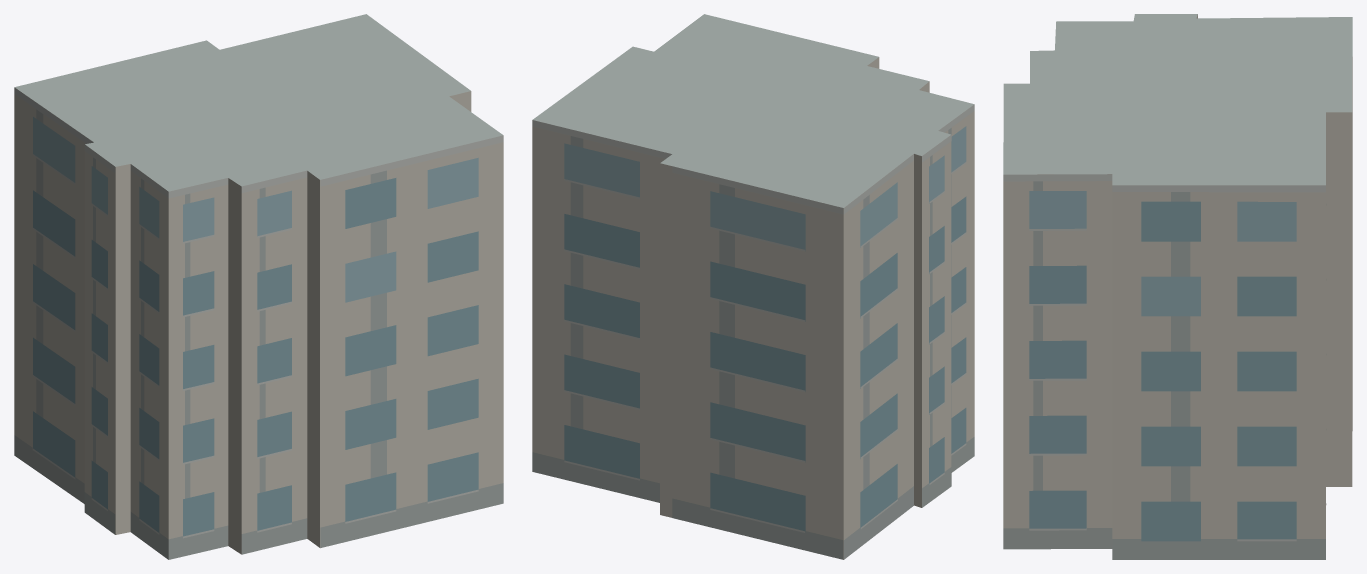
File: survey-upis-32564695.glb
The picture shows the model from 3 angles, left to right: view 1: azimuth 30°, elevation 25°; view 2: azimuth 150°, elevation 25°; view 3: azimuth 270°, elevation 25°; orthographic projection. The views are drawn at different scales.
Parts seen in each view (by area): view 1: survey-upis-32564695.tmp; view 2: survey-upis-32564695.tmp; view 3: survey-upis-32564695.tmp.
Boxes of the visible parts, x1,y1,x2,y2 form: survey-upis-32564695.tmp: [14, 14, 503, 559]; survey-upis-32564695.tmp: [532, 14, 974, 559]; survey-upis-32564695.tmp: [1003, 14, 1352, 559].
Size of the model in its own units: 12.86 by 13.1 by 11.09.
